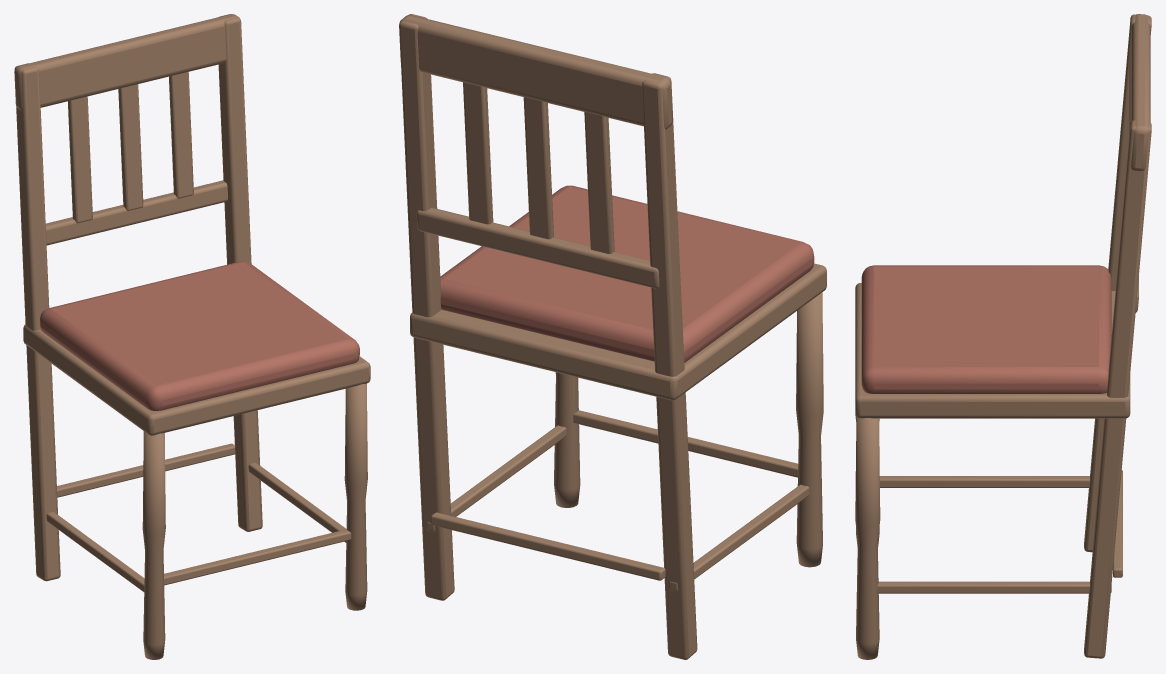
Rendered from dn_chair.fbx.
3 views of the same model, side by side, from view 1: azimuth 30°, elevation 25°; view 2: azimuth 150°, elevation 25°; view 3: azimuth 270°, elevation 25° (orthographic). The views are drawn at different scales.
Parts seen in each view (by area): view 1: SeatCushion, BackLeg.001, TopRail, BackLeg, SeatFrame, FrontLeg.001, FrontLeg, MidRail, Slat.001, Slat, Slat.002, StretcherX (+3 smaller); view 2: SeatCushion, BackLeg.001, BackLeg, SeatFrame, TopRail, FrontLeg.001, MidRail, StretcherX.001, Slat.001, Slat.002, Slat, FrontLeg (+3 smaller); view 3: SeatCushion, BackLeg, SeatFrame, FrontLeg, BackLeg.001, TopRail, StretcherY.001, StretcherY, StretcherX.001.
Boxes of the visible parts, box(x1,y1,x2,y2) form: SeatCushion: box(40, 261, 359, 410); BackLeg.001: box(14, 63, 60, 581); TopRail: box(14, 14, 239, 110); BackLeg: box(218, 14, 262, 531); SeatFrame: box(23, 324, 370, 435); FrontLeg.001: box(142, 431, 165, 659); FrontLeg: box(344, 383, 367, 610); MidRail: box(45, 180, 227, 245); Slat.001: box(118, 84, 143, 210); Slat: box(68, 96, 92, 223); Slat.002: box(169, 72, 193, 198); StretcherX: box(164, 529, 351, 585); SeatCushion: box(440, 185, 814, 362); BackLeg.001: box(642, 73, 697, 659); BackLeg: box(399, 14, 454, 600); SeatFrame: box(410, 263, 826, 400); TopRail: box(399, 15, 672, 129); FrontLeg.001: box(796, 292, 823, 567); MidRail: box(416, 207, 659, 288); StretcherX.001: box(431, 512, 665, 580); Slat.001: box(523, 97, 553, 239); Slat.002: box(463, 82, 493, 224); Slat: box(584, 112, 614, 253); FrontLeg: box(554, 372, 580, 507); SeatCushion: box(861, 265, 1111, 393); BackLeg: box(1084, 120, 1151, 658); SeatFrame: box(855, 283, 1130, 418); FrontLeg: box(855, 417, 880, 659); BackLeg.001: box(1084, 14, 1151, 552); TopRail: box(1129, 14, 1150, 170); StretcherY.001: box(877, 581, 1111, 593); StretcherY: box(879, 476, 1089, 487); StretcherX.001: box(1113, 470, 1122, 577).
Bounding box in the file's own units: 0.44 × 0.9403 × 0.474.
